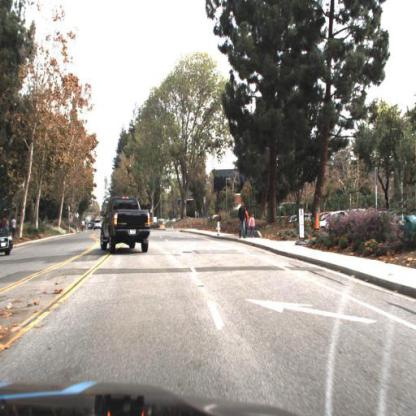car: (99, 195, 152, 255), (319, 208, 349, 234)
pedestrian: (238, 201, 248, 241), (249, 214, 257, 237), (12, 216, 18, 246)
